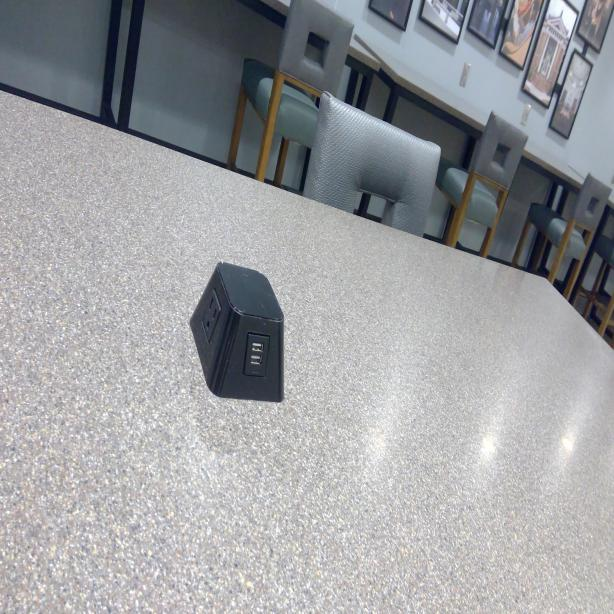typeb: (204, 298, 222, 330)
